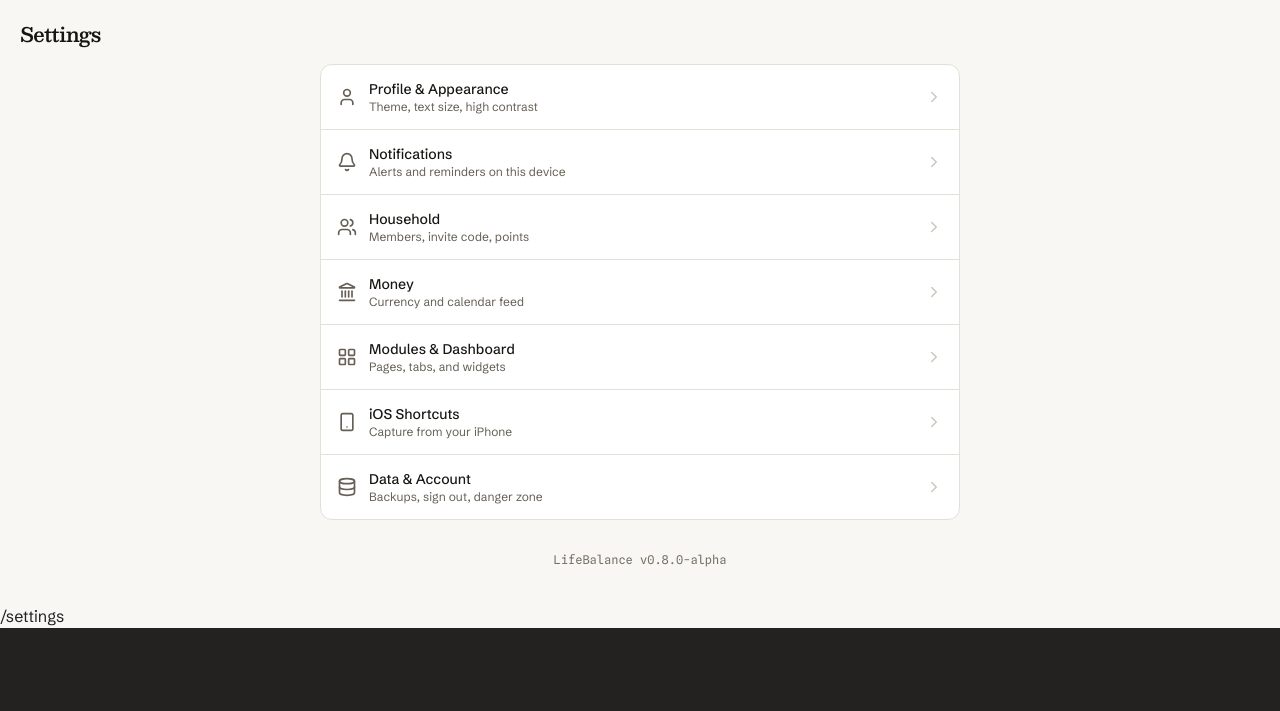
Test: Settings index + sub-screens › restores focus to the originating index row on back
Click the text "Money": (391, 284) [369,275,414,293]
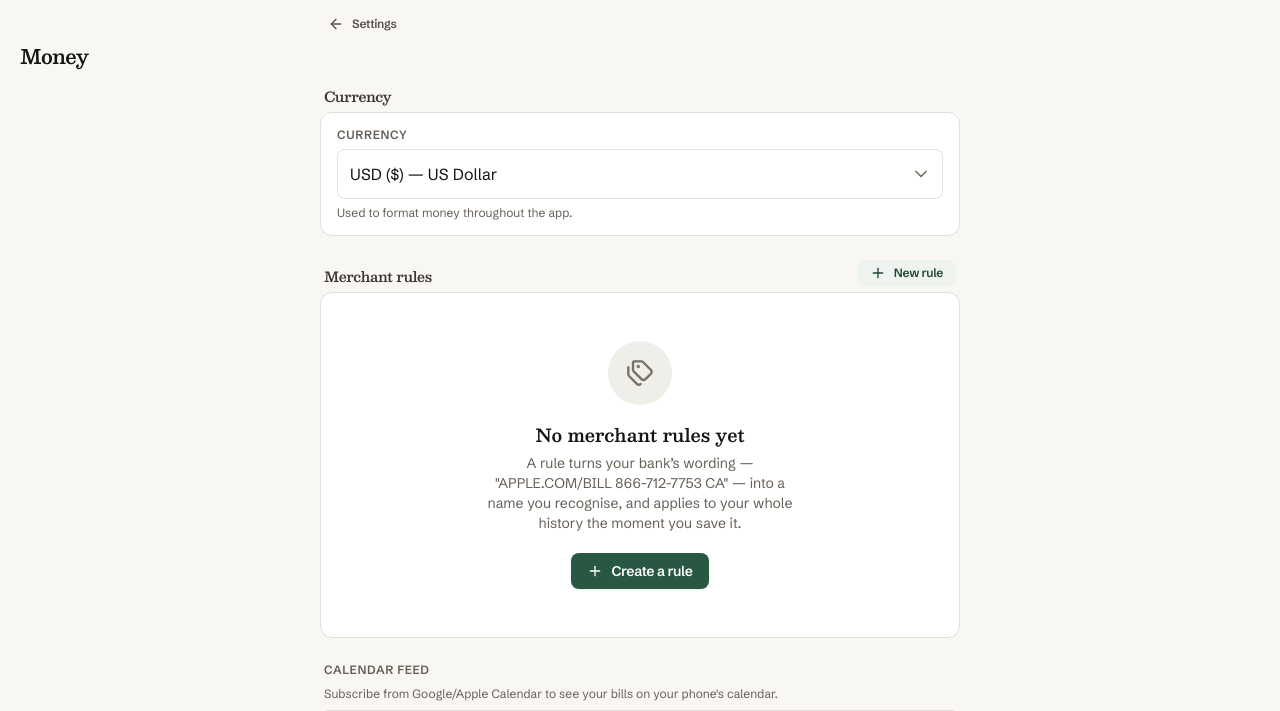
Result: the heading "Money" is shown at [20,42,88,70]
Click the button with aria-label "back to settings": (362, 24) [316,12,409,36]
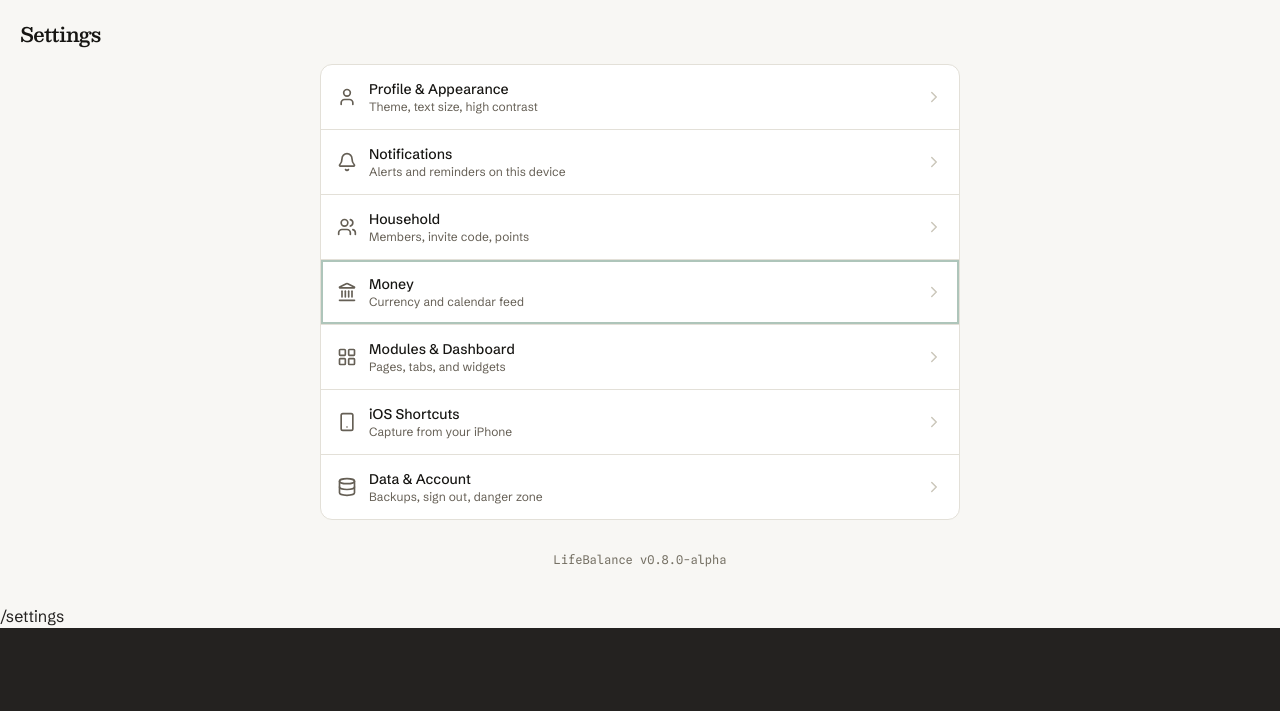
Result: the button "Money Currency and calendar feed" is shown at [321,259,959,324]
